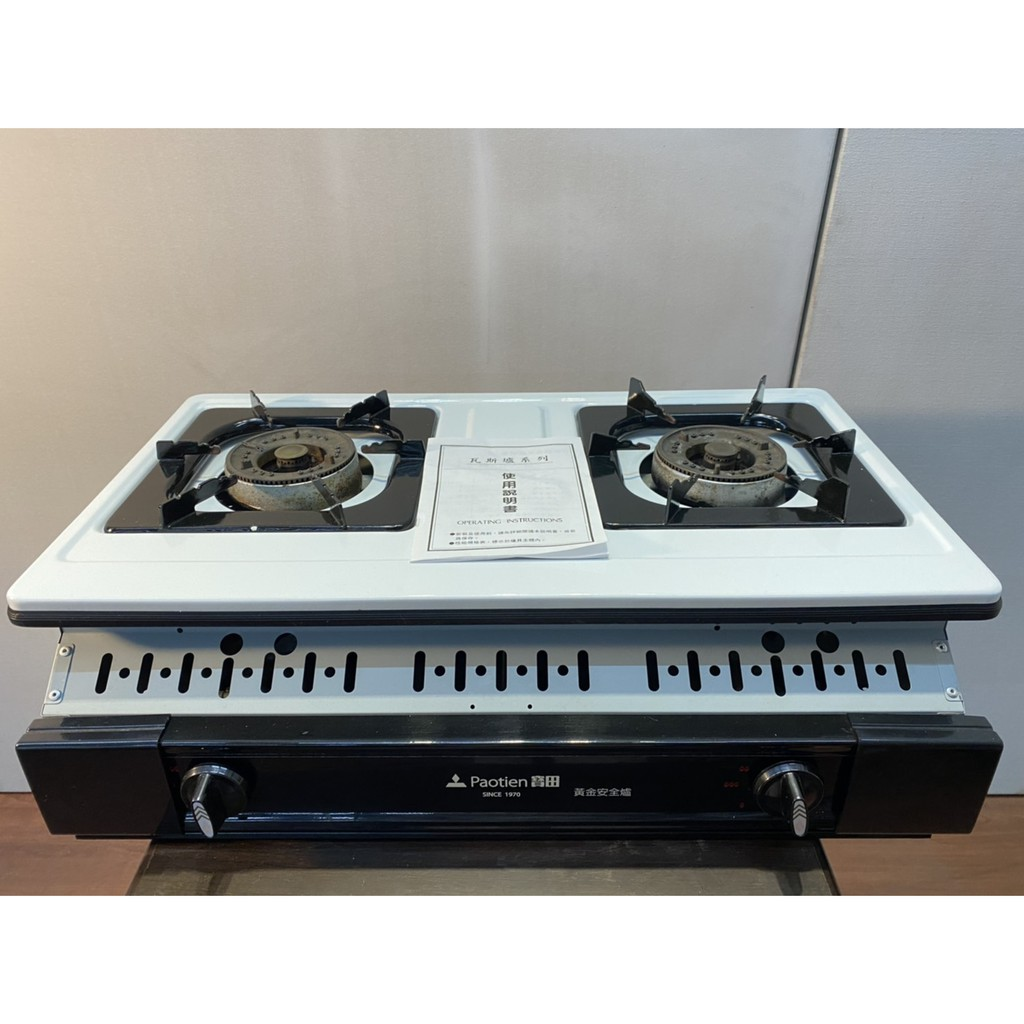gasoven: (5, 379, 1002, 864)
